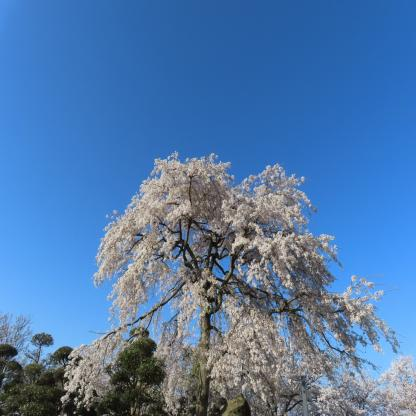ShidareZakura: (61, 149, 416, 416)
